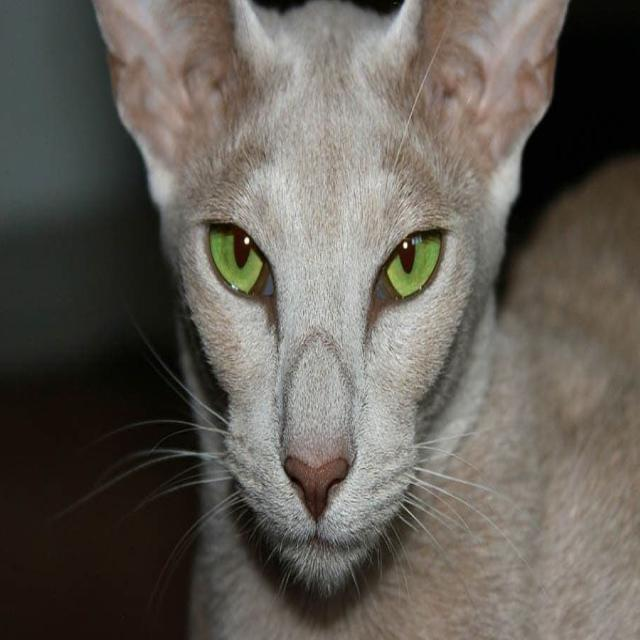Oriental: (76, 0, 640, 640)
